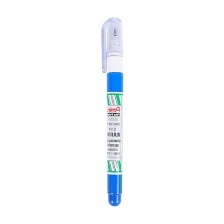correction_fluid: (99, 14, 125, 208)
